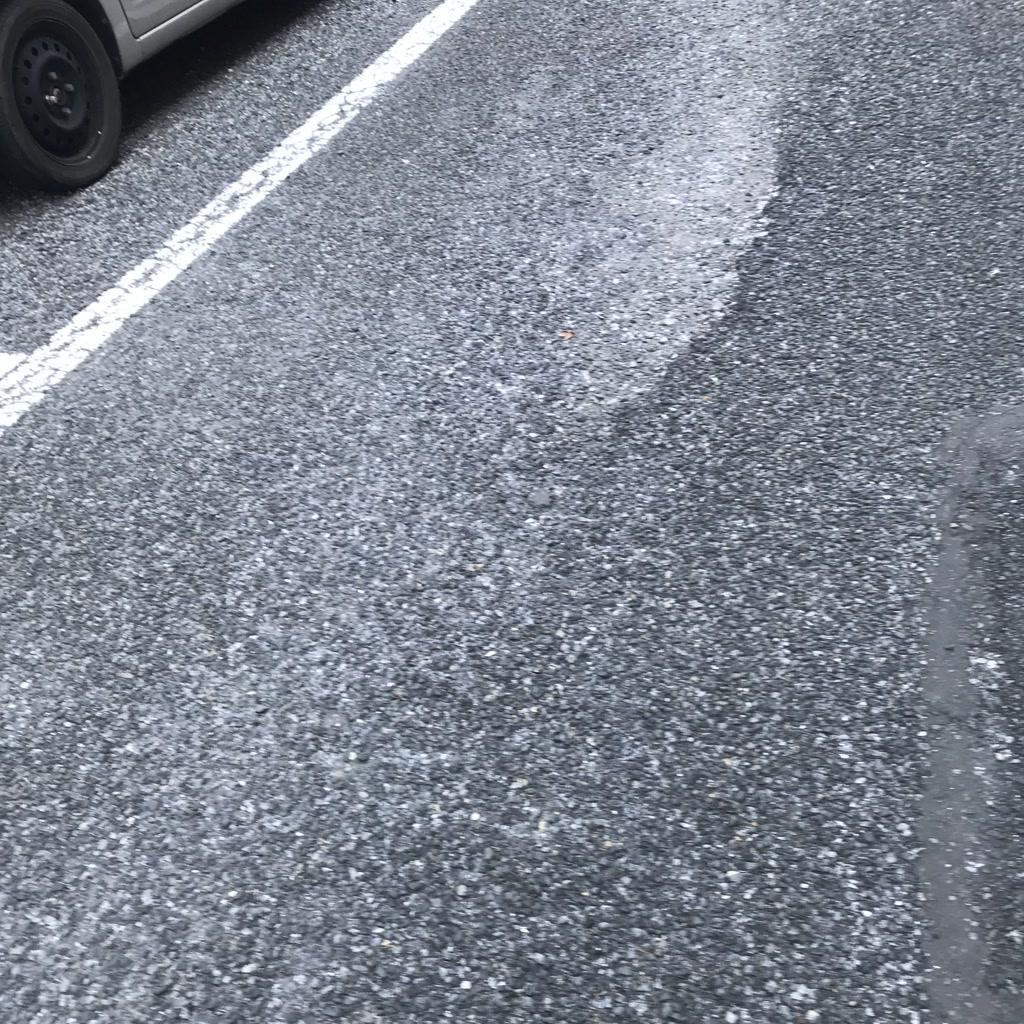D40: (539, 80, 782, 428)
